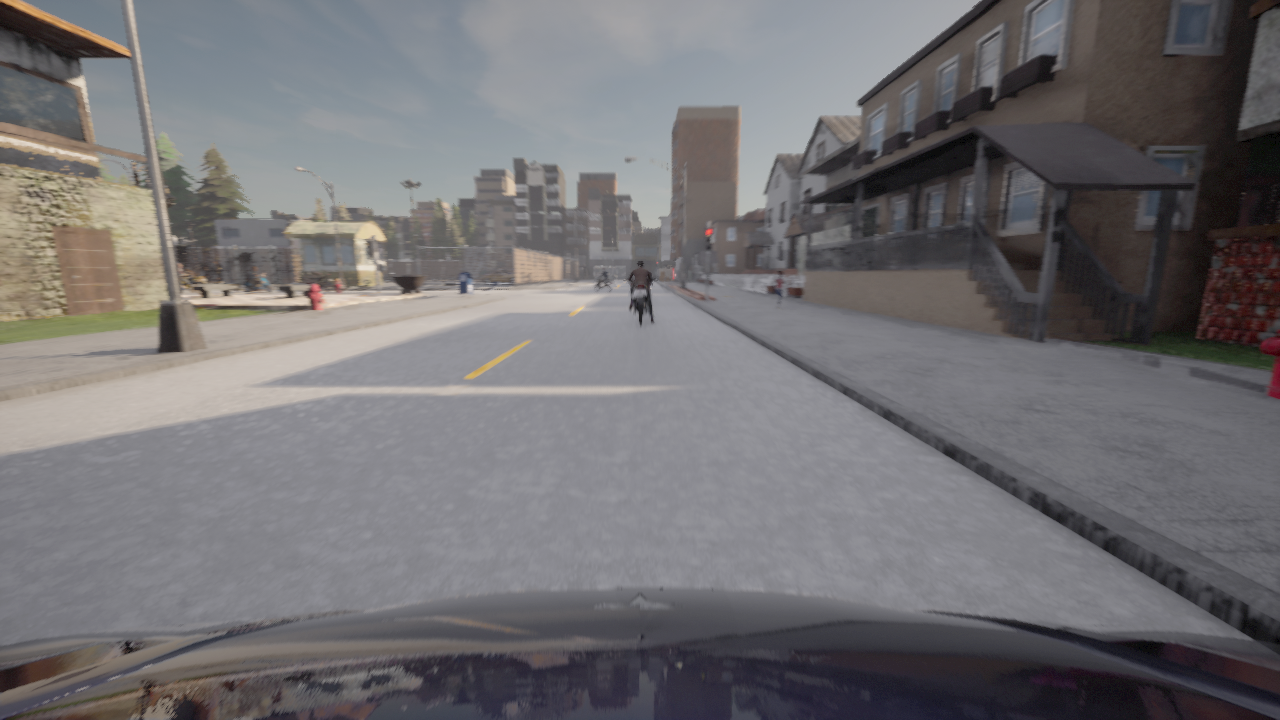cyclist: (0, 588, 1279, 719), (625, 278, 655, 325), (242, 273, 272, 292), (299, 273, 332, 290), (483, 268, 521, 282), (481, 270, 521, 282), (180, 274, 199, 292), (594, 274, 613, 292), (181, 276, 205, 288), (515, 268, 528, 281), (531, 272, 546, 280), (542, 269, 545, 270)
pedestrian: (770, 271, 787, 309)
